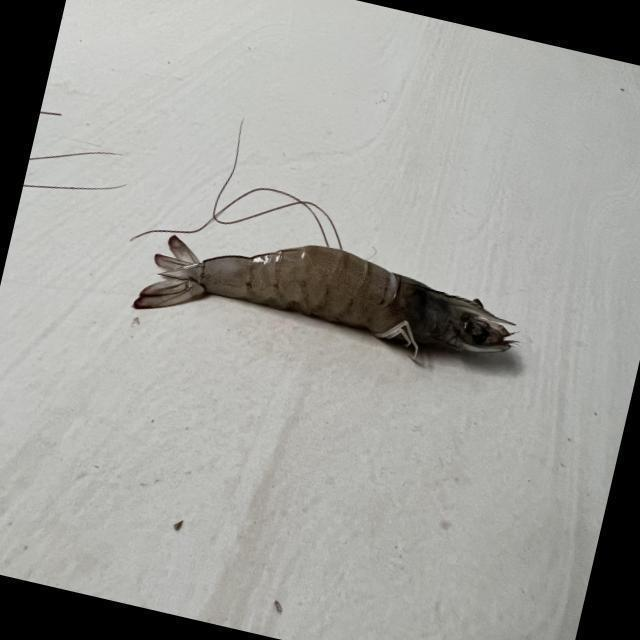shrimp: (132, 236, 515, 352)
